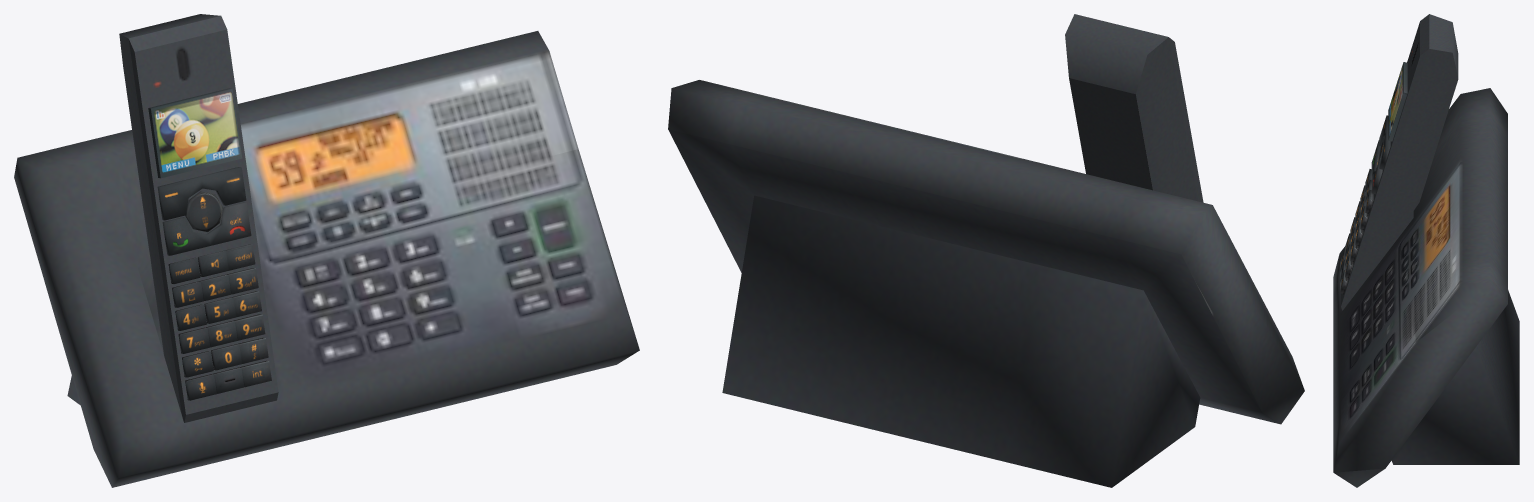
Rendered from Telephone.FBX.
3 renders of one model, left to right at view 1: azimuth 30°, elevation 25°; view 2: azimuth 150°, elevation 25°; view 3: azimuth 270°, elevation 25°, orthographic. The views are drawn at different scales.
Parts seen in each view (by area): view 1: Telephone; view 2: Telephone; view 3: Telephone.
Part boxes in pixels (x1,y1,x2,y2): Telephone: (14,14,639,487); Telephone: (668,14,1304,487); Telephone: (1333,14,1519,487).
Size of the model in its own units: 36.49 by 26.77 by 14.66.
1 material, 1 textured.
